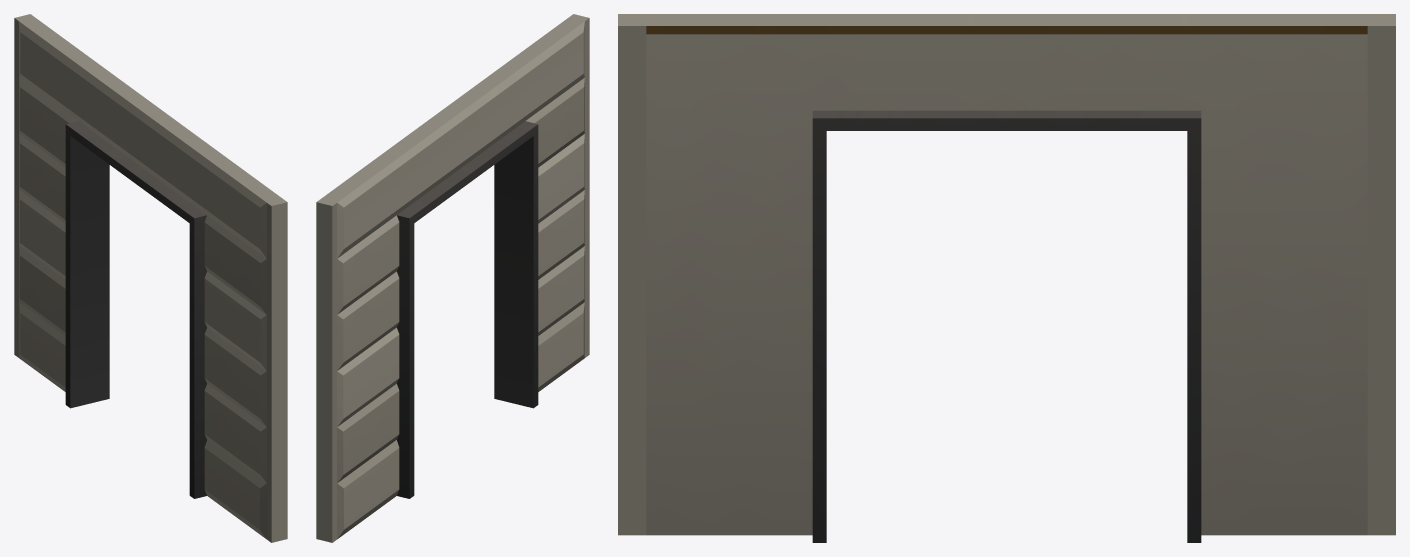
File: TSP_House_Wall_Short_07A.fbx
3 views of the same model, side by side, from view 1: azimuth 30°, elevation 25°; view 2: azimuth 150°, elevation 25°; view 3: azimuth 270°, elevation 25° (orthographic). The views are drawn at different scales.
Visible parts, largest first — view 1: TSP_House_Wall_Short_07A; view 2: TSP_House_Wall_Short_07A; view 3: TSP_House_Wall_Short_07A.
Boxes of the visible parts, x1=… form: TSP_House_Wall_Short_07A: x1=14, y1=14, x2=287, y2=542; TSP_House_Wall_Short_07A: x1=316, y1=14, x2=589, y2=542; TSP_House_Wall_Short_07A: x1=618, y1=14, x2=1395, y2=542.
Bounding box in the file's own units: 0.365 × 3 × 4.15.
